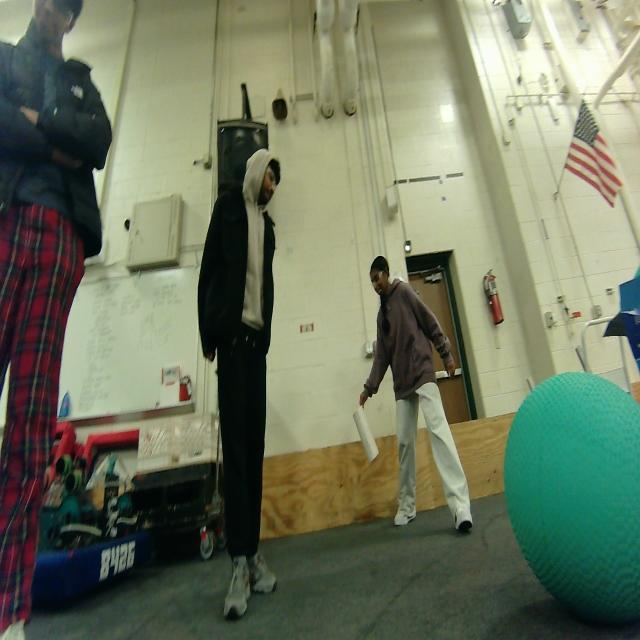algae: (504, 372, 640, 624)
coral: (353, 406, 379, 462)
